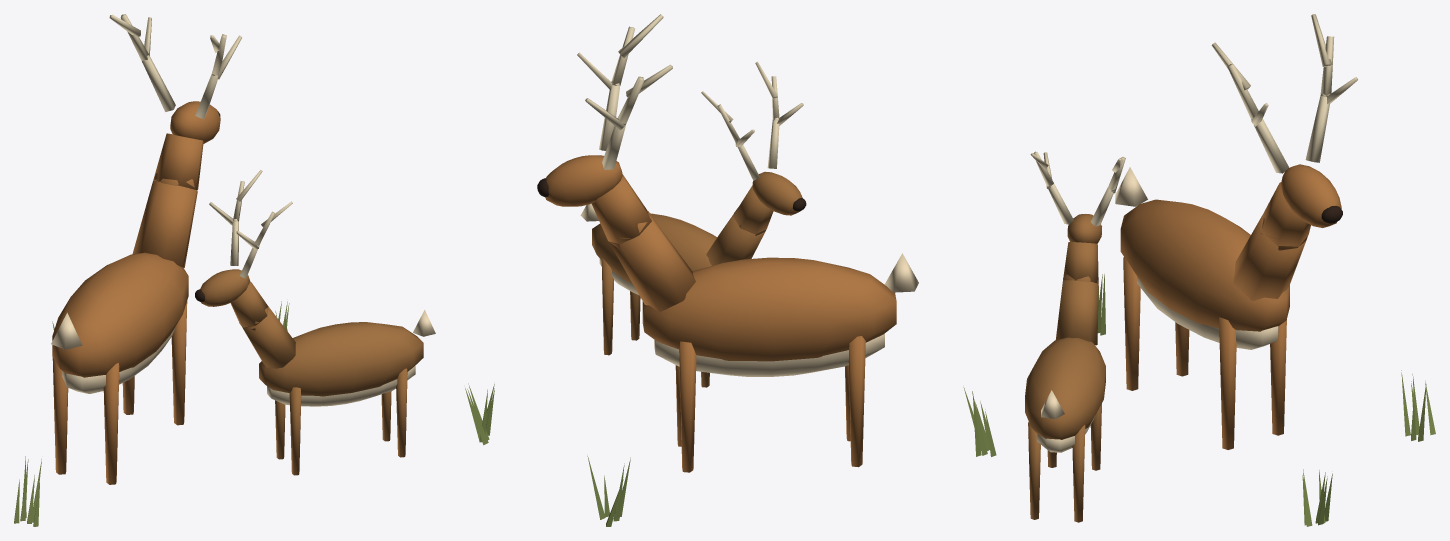
The model's file is resource_deer.fbx.
The picture shows the model from 3 angles, left to right: view 1: azimuth 30°, elevation 25°; view 2: azimuth 150°, elevation 25°; view 3: azimuth 270°, elevation 25°; orthographic projection. The views are drawn at different scales.
Visible parts, largest first — view 1: resource_deer_fur#a8703c_00, resource_deer_fur#9a6a3a_04, resource_deer_antler_03, resource_deer_fur#e8d4b0_01, resource_deer_grass#7a8a4a_05; view 2: resource_deer_fur#a8703c_00, resource_deer_fur#9a6a3a_04, resource_deer_antler_03, resource_deer_fur#e8d4b0_01, resource_deer_grass#7a8a4a_05; view 3: resource_deer_fur#a8703c_00, resource_deer_fur#9a6a3a_04, resource_deer_antler_03, resource_deer_fur#e8d4b0_01, resource_deer_grass#7a8a4a_05.
Part boxes in pixels (x1=…): resource_deer_fur#a8703c_00: x1=52, y1=101, x2=220, y2=484; resource_deer_fur#9a6a3a_04: x1=200, y1=269, x2=423, y2=475; resource_deer_antler_03: x1=109, y1=14, x2=292, y2=278; resource_deer_fur#e8d4b0_01: x1=51, y1=310, x2=435, y2=406; resource_deer_grass#7a8a4a_05: x1=14, y1=301, x2=289, y2=526; resource_deer_fur#a8703c_00: x1=545, y1=155, x2=896, y2=472; resource_deer_fur#9a6a3a_04: x1=592, y1=171, x2=802, y2=387; resource_deer_antler_03: x1=577, y1=14, x2=803, y2=180; resource_deer_fur#e8d4b0_01: x1=580, y1=203, x2=918, y2=376; resource_deer_grass#7a8a4a_05: x1=465, y1=383, x2=996, y2=526; resource_deer_fur#a8703c_00: x1=1120, y1=164, x2=1341, y2=449; resource_deer_fur#9a6a3a_04: x1=1025, y1=214, x2=1105, y2=522; resource_deer_antler_03: x1=1030, y1=14, x2=1357, y2=226; resource_deer_fur#e8d4b0_01: x1=1037, y1=167, x2=1278, y2=452; resource_deer_grass#7a8a4a_05: x1=1097, y1=274, x2=1435, y2=526.
Size of the model in its own units: 108 by 99.41 by 88.18.
